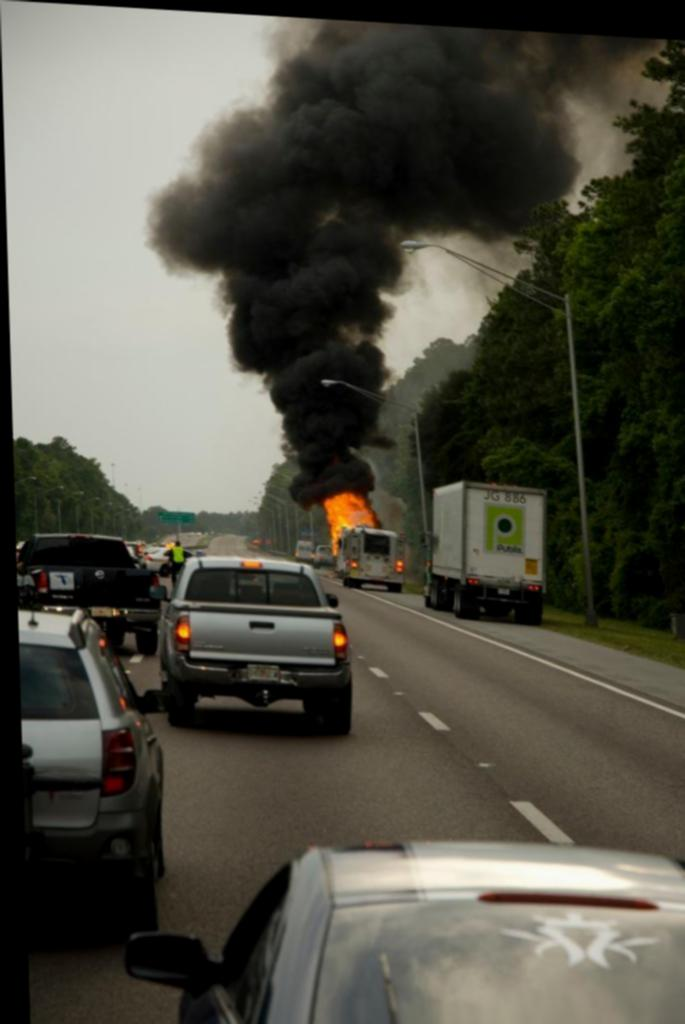License_Plate: (247, 663, 276, 683)
